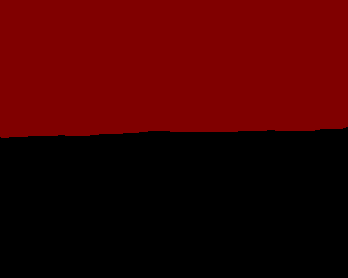Sky: (1, 1, 347, 138)
